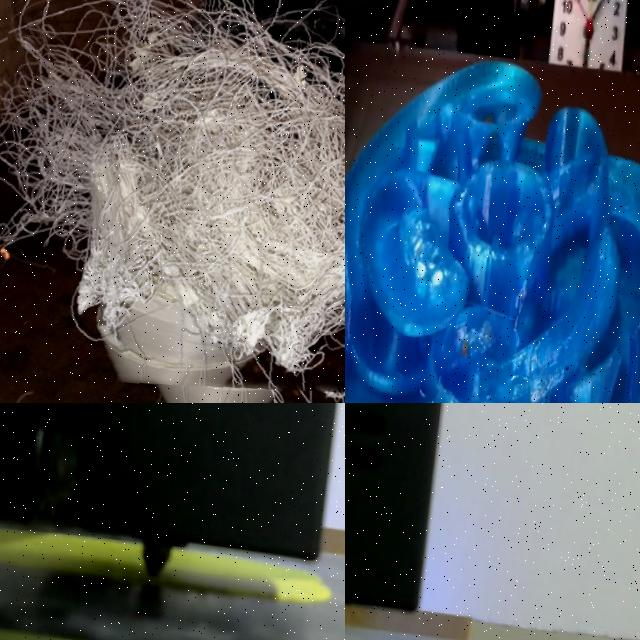spaghetti: (0, 0, 345, 403), (445, 316, 504, 372), (505, 330, 546, 400), (406, 380, 446, 403)
